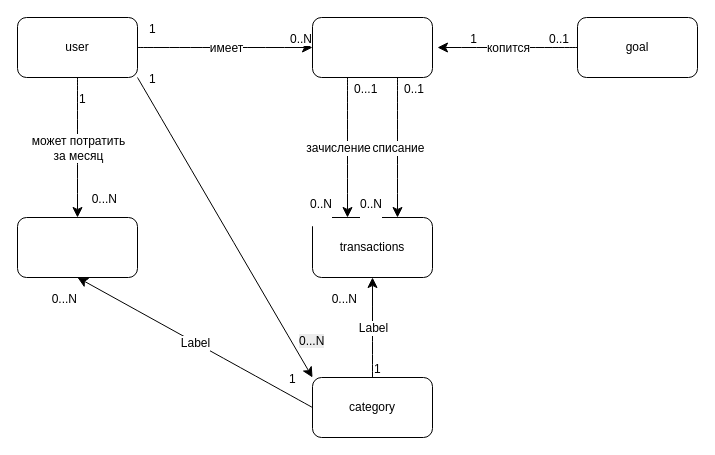
Image size: 715x455. Some labels were removed from this diagram. The box of each missing label's shape, as (x1, y1, x2, y2) in pixels:
accounts: (312, 16, 432, 78)
limit: (16, 216, 138, 278)
